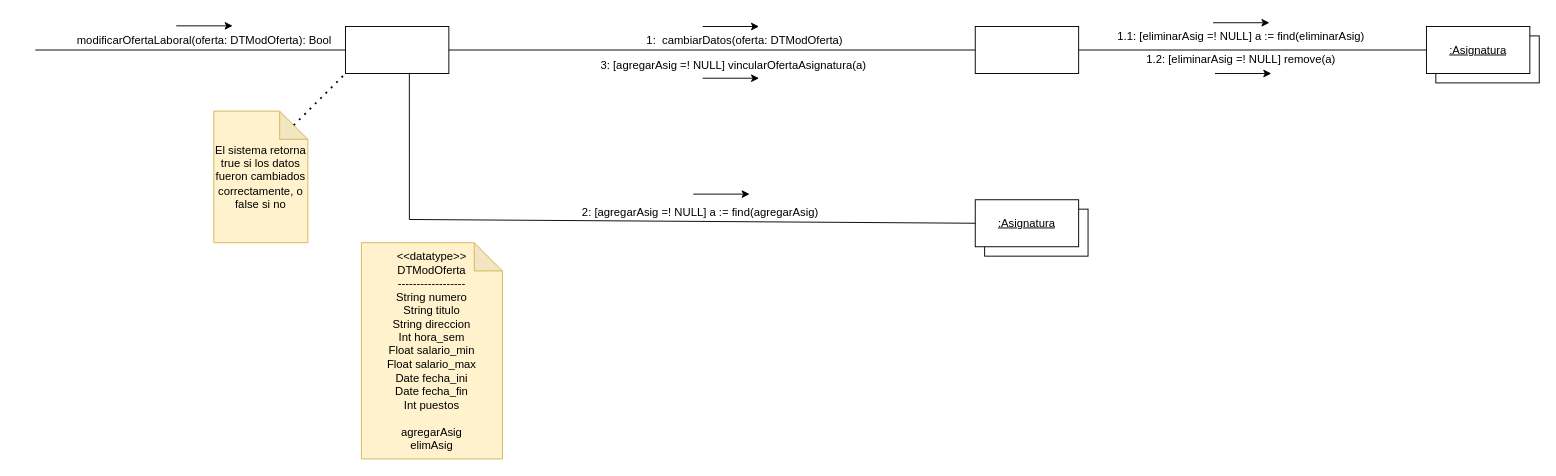
The diagram is 1556 pixels wide and 476 high, and some of its shapes have lost their labels. Each missing label, with the centre of its shape:
: Sistema: point (397, 50)
o :Oferta Laboral: point (1026, 50)
